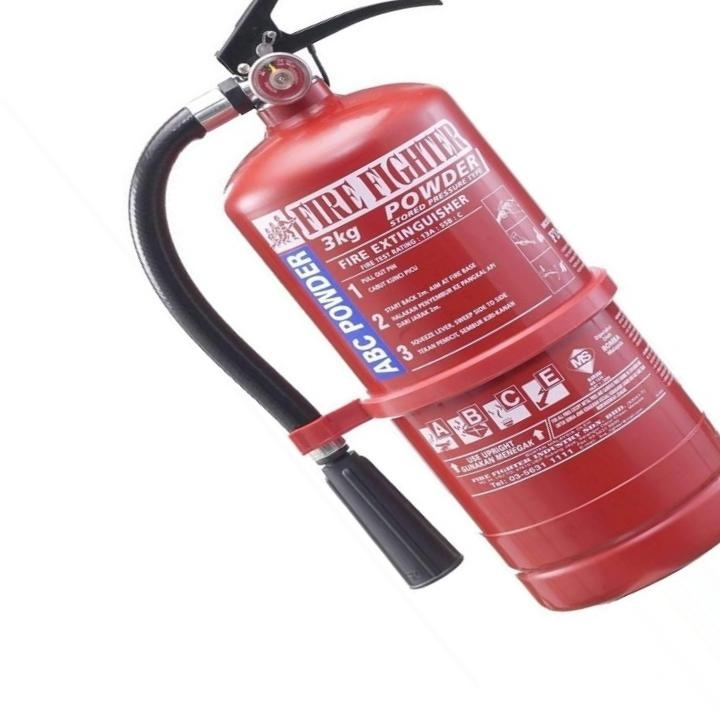fire_extinguisher: (127, 0, 720, 613)
